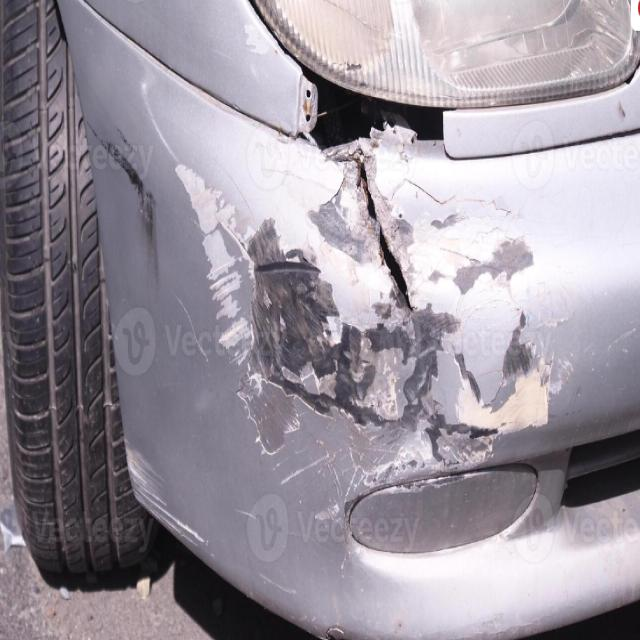Dent: (177, 128, 552, 478)
Scratch: (177, 141, 519, 504), (126, 443, 206, 544), (176, 166, 250, 261), (390, 178, 511, 215), (142, 81, 178, 163), (126, 441, 165, 505), (174, 294, 208, 361), (154, 505, 204, 544), (389, 178, 455, 205), (327, 0, 381, 31), (317, 441, 342, 501), (220, 318, 251, 363), (281, 456, 327, 484), (346, 448, 363, 496), (259, 573, 296, 595), (245, 24, 271, 54), (608, 329, 636, 351), (328, 459, 342, 500), (347, 467, 359, 496), (615, 329, 636, 343), (440, 0, 446, 36), (236, 509, 255, 520), (213, 50, 232, 60), (618, 102, 626, 118)
